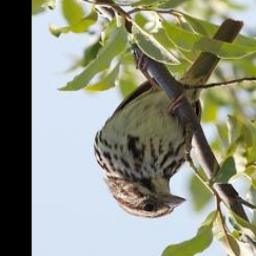Sparrow: (95, 19, 245, 219)
